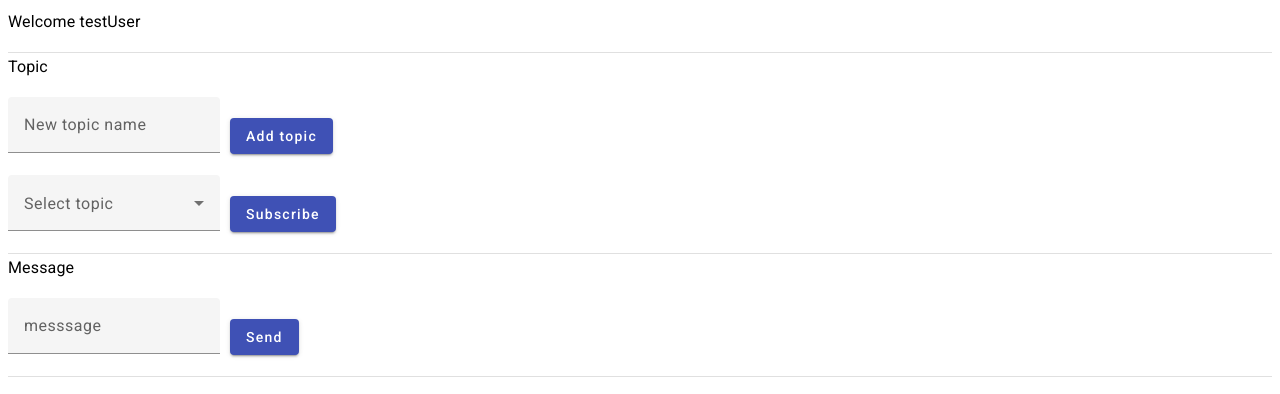
Test: messaging template spec › Should notify when publishing before subscribing to any topic
This screenshot has width=1280, height=394.
Type "test_text" into the field with id "message-text".
click(114, 326); type("test_text")  # box x1=24 y1=314 x2=204 y2=338
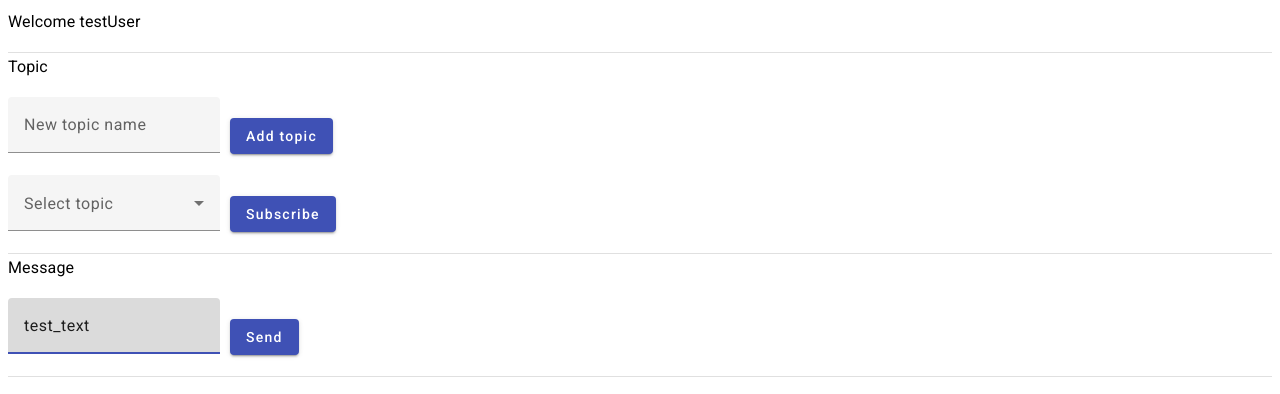
Click the button "Send".
click(265, 337)  # box x1=230 y1=319 x2=299 y2=355
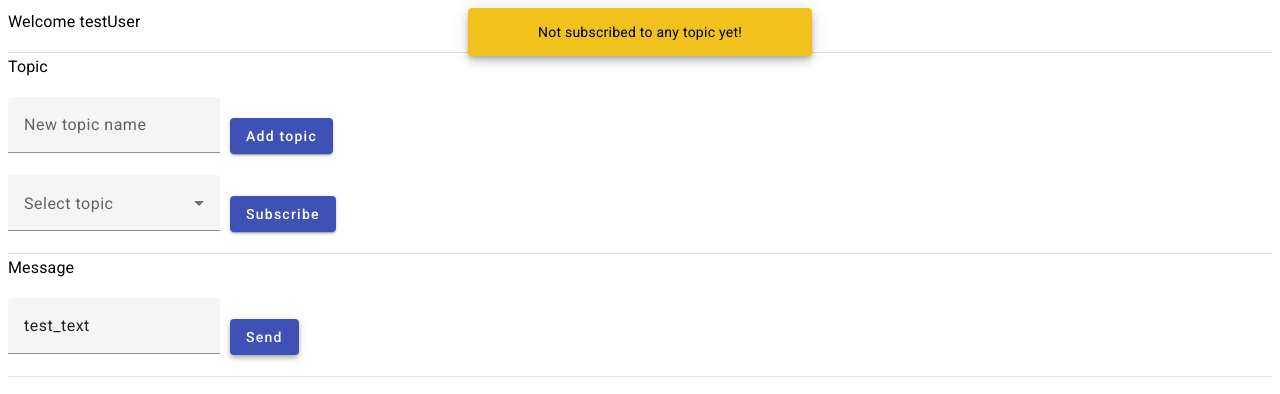
Now the text "Not subscribed to any topic yet!" is shown, box x1=538 y1=24 x2=742 y2=40
